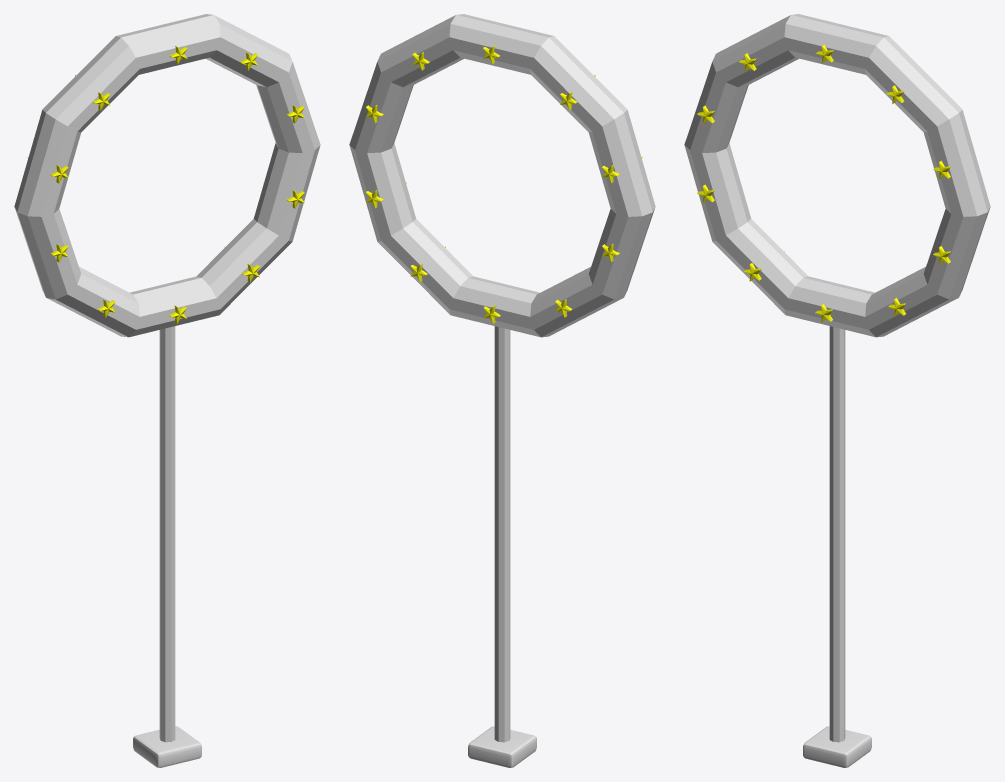
Rendered from SmallRingPole.fbx.
3 views of the same model, side by side, from view 1: azimuth 30°, elevation 25°; view 2: azimuth 150°, elevation 25°; view 3: azimuth 330°, elevation 25° (orthographic).
Parts seen in each view (by area): view 1: Ring, RingPole, RingPoleBase; view 2: Ring, RingPole, RingPoleBase; view 3: Ring, RingPole, RingPoleBase.
Part boxes in pixels (x1,y1,x2,y2): Ring: (14, 14, 320, 337); RingPole: (159, 326, 175, 742); RingPoleBase: (133, 726, 201, 767); Ring: (349, 14, 655, 337); RingPole: (494, 326, 510, 742); RingPoleBase: (468, 726, 536, 767); Ring: (684, 14, 990, 337); RingPole: (829, 326, 845, 742); RingPoleBase: (803, 726, 871, 767).
Bounding box in the file's own units: 4.86 × 11.26 × 0.7446.
